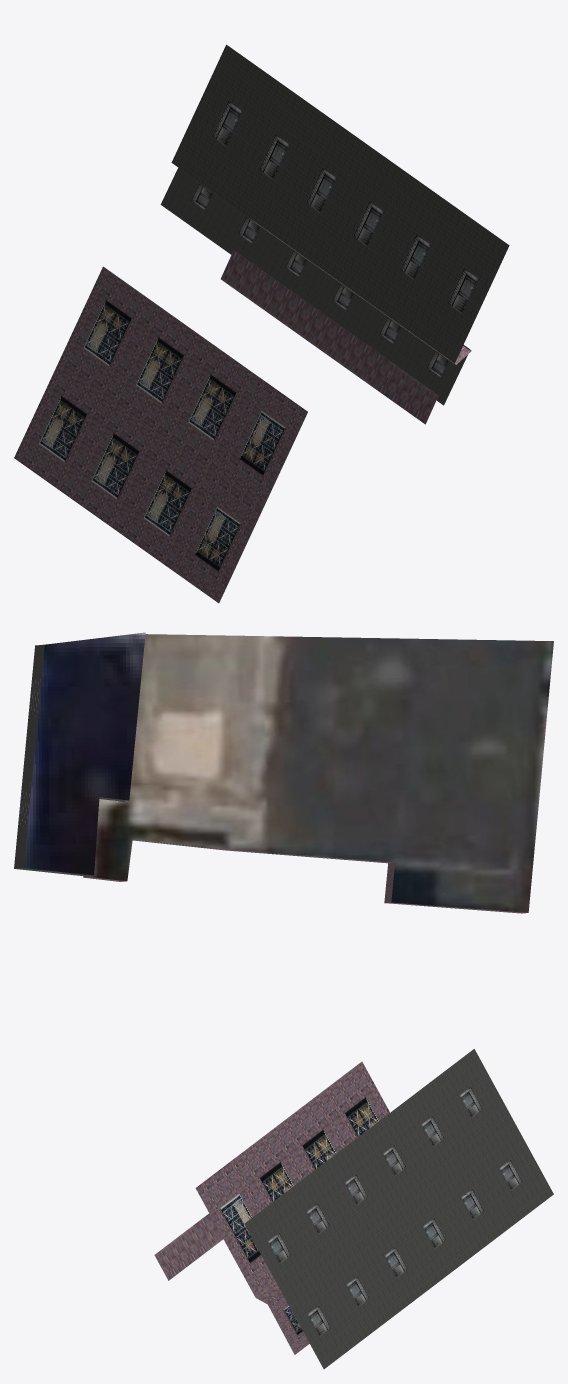
3 renders of one model, top to bottom at view 1: azimuth 30°, elevation 25°; view 2: azimuth 150°, elevation 25°; view 3: azimuth 270°, elevation 25°, orthographic. The views are drawn at different scales.
Size of the model in its own units: 33.01 by 22.71 by 35.24.
4 materials, 4 textured.
